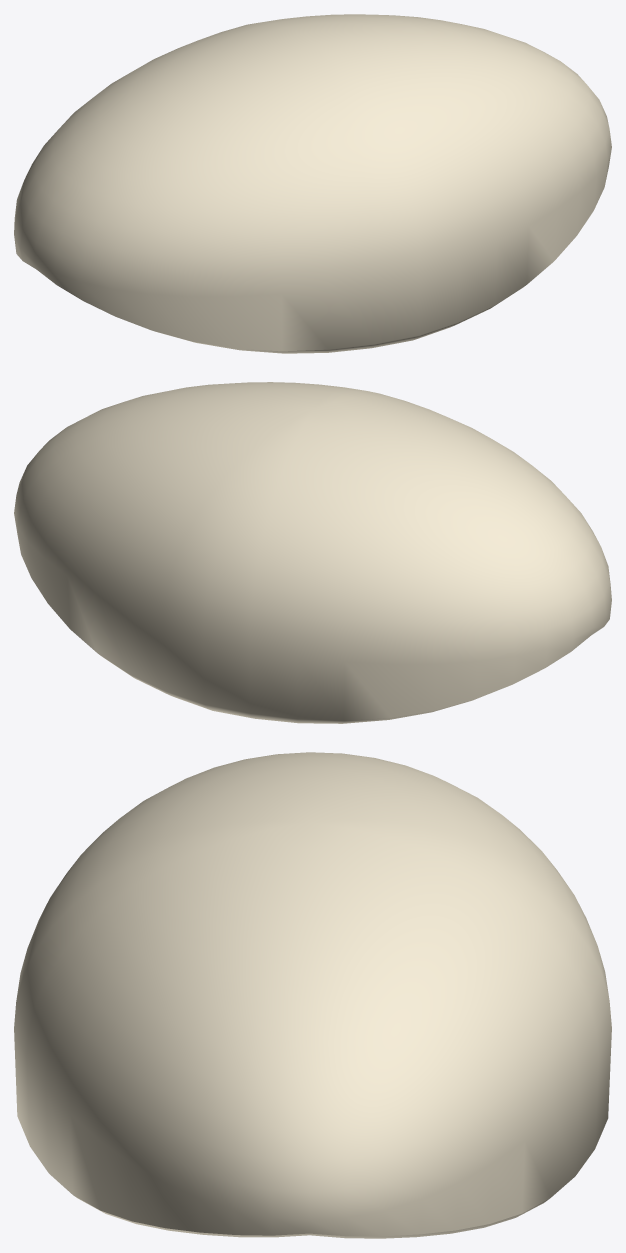
The model's file is cowrie_c3.glb.
The picture shows the model from 3 angles, top to bottom: view 1: azimuth 30°, elevation 25°; view 2: azimuth 150°, elevation 25°; view 3: azimuth 270°, elevation 25°; orthographic projection. The views are drawn at different scales.
Parts seen in each view (by area): view 1: cowrie_c3; view 2: cowrie_c3; view 3: cowrie_c3.
Part boxes in pixels (x1,y1,x2,y2): cowrie_c3: [14, 14, 611, 353]; cowrie_c3: [14, 382, 611, 723]; cowrie_c3: [14, 752, 611, 1238].
Size of the model in its own units: 0.024 by 0.00959 by 0.016.
